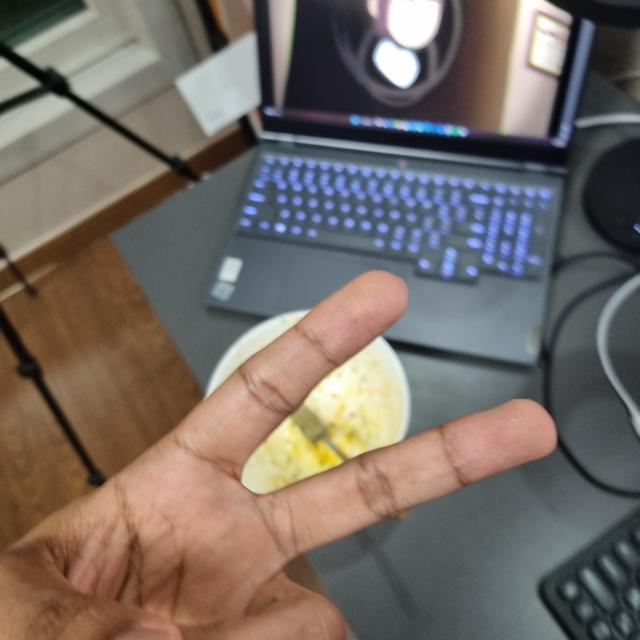Scissors: (3, 277, 550, 639)
